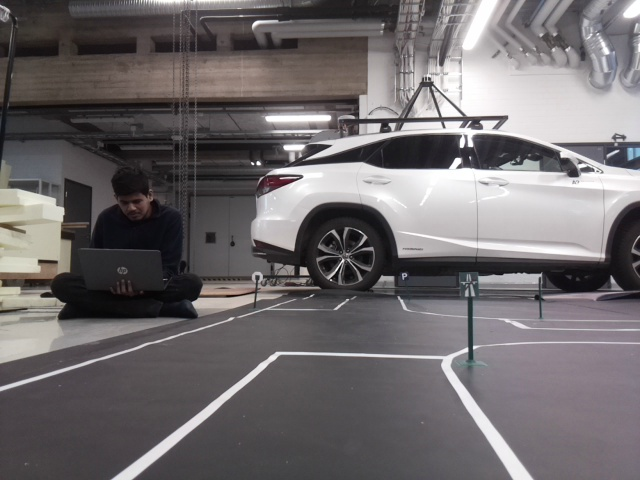HighwayExit: (459, 272, 478, 297)
Parking: (400, 272, 407, 280)
